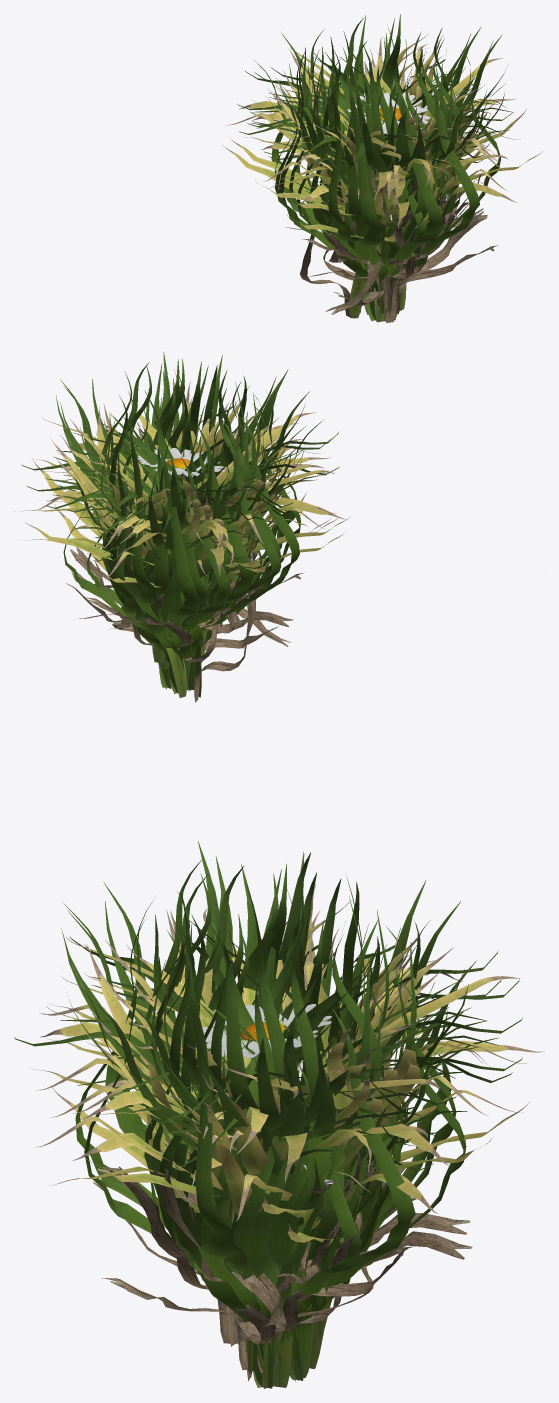
Rendered from stellariadichotoma.glb.
3 views of the same model, one above another, from view 1: azimuth 30°, elevation 25°; view 2: azimuth 150°, elevation 25°; view 3: azimuth 270°, elevation 25° (orthographic). The views are drawn at different scales.
Parts seen in each view (by area): view 1: var1, var2, var7, var6, var4, var8, var5, var9, var3; view 2: var1, var4, var8, var2, var7, var6, var5, var3, var9; view 3: var7, var2, var8, var1, var4, var6, var9, var5, var3.
Boxes of the visible parts, x1,y1,x2,y2 form: var1: (225,15,542,321); var2: (237,18,520,322); var7: (247,14,513,320); var6: (261,58,507,319); var4: (239,28,499,314); var8: (250,33,526,271); var5: (222,60,468,295); var9: (242,60,462,311); var3: (229,53,474,286); var1: (26,359,544,702); var4: (46,371,349,694); var8: (14,402,330,689); var2: (21,355,339,684); var7: (44,351,337,637); var6: (67,396,344,661); var5: (108,411,346,655); var3: (87,406,336,604); var9: (47,420,325,662); var7: (14,856,501,1388); var2: (49,852,523,1387); var8: (72,920,526,1381); var1: (40,731,544,1368); var4: (36,864,519,1346); var6: (30,914,463,1374); var9: (86,929,529,1352); var5: (38,908,485,1339); var3: (42,910,489,1271).
Size of the model in its own units: 0.6465 by 0.3546 by 0.351.
Materials: 6 (6 with a texture image).
